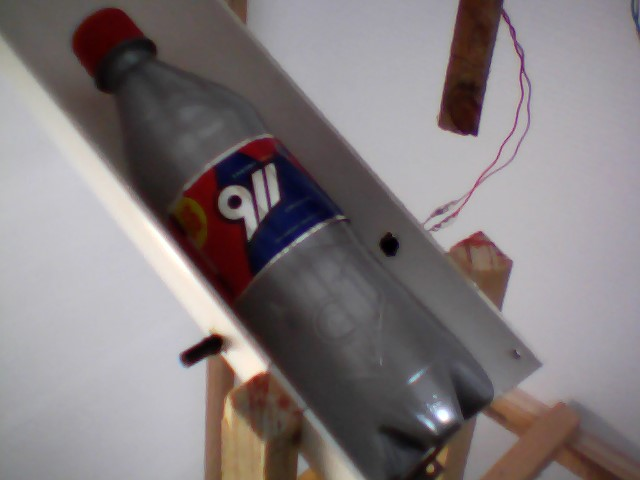plastico: (63, 1, 506, 480)
